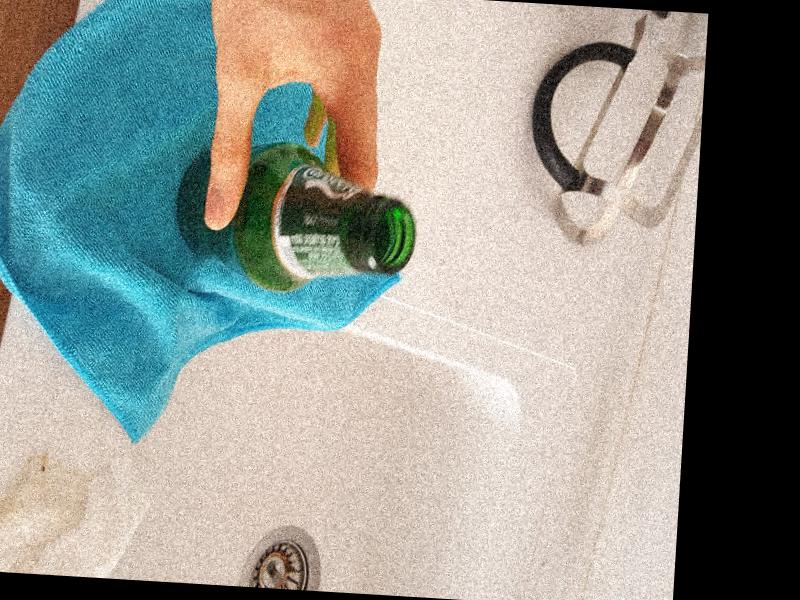Beer: (169, 147, 416, 297)
